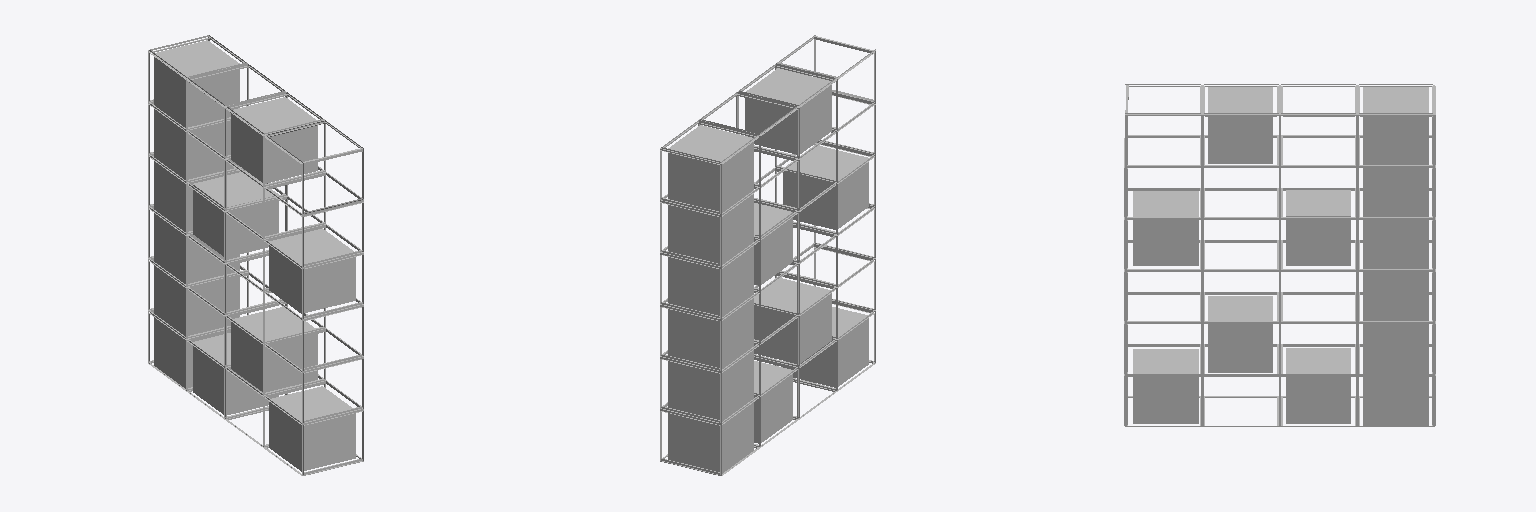
Rendered from Rack moss shelves N030919.obj.
3 renders of one model, left to right at view 1: azimuth 30°, elevation 25°; view 2: azimuth 150°, elevation 25°; view 3: azimuth 270°, elevation 25°, orthographic.
Parts seen in each view (by area): view 1: Box046, Box045, Box048, Box050, Box049, Box051, Box047, Box052; view 2: Box046, Box045, Box048, Box049, Box051, Box050, Box047, Box052; view 3: Box046, Box045, Box051, Box049, Box050, Box047, Box048, Box052.
Part boxes in pixels (x1,y1,x2,y2): Box046: (154,40,239,388); Box045: (148,35,363,475); Box048: (231,97,317,183); Box050: (269,386,355,471); Box049: (269,228,355,313); Box051: (231,307,317,392); Box047: (193,171,278,256); Box052: (193,333,278,414); Box046: (668,125,753,473); Box045: (660,35,875,475); Box048: (745,68,831,154); Box049: (783,145,868,229); Box051: (754,278,831,363); Box050: (783,307,868,387); Box047: (754,203,792,285); Box052: (754,361,792,443); Box046: (1363,87,1428,425); Box045: (1124,84,1435,426); Box051: (1208,296,1272,372); Box049: (1133,191,1198,265); Box050: (1133,349,1198,423); Box047: (1286,190,1350,265); Box048: (1208,87,1272,163); Box052: (1286,348,1350,423).
Bounding box in the file's own units: 540 × 2620 × 2350.